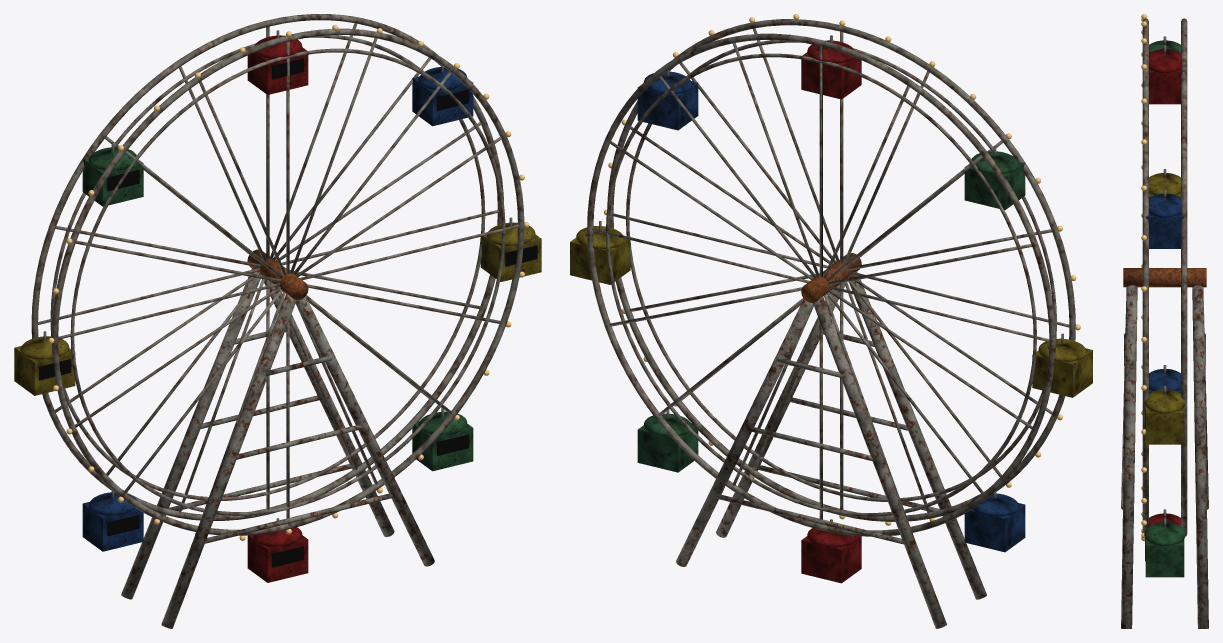
Rendered from ferris.glb.
The picture shows the model from 3 angles, left to right: view 1: azimuth 30°, elevation 25°; view 2: azimuth 150°, elevation 25°; view 3: azimuth 270°, elevation 25°; orthographic projection. The views are drawn at different scales.
Parts seen in each view (by area): view 1: Wheel, Main, Cabin5, Cabin4, Cabin6, Cabin0, Cabin3, Cabin1, Cabin2, Cabin7; view 2: Wheel, Main, Cabin5, Cabin4, Cabin6, Cabin3, Cabin0, Cabin1, Cabin2, Cabin7; view 3: Main, Wheel, Cabin3, Cabin2, Cabin1, Cabin0, Cabin5, Cabin6, Cabin4, Cabin7.
Part boxes in pixels (<box>): Wheel: <box>31,14,529,540</box>; Main: <box>121,249,434,628</box>; Cabin5: <box>82,490,143,551</box>; Cabin4: <box>247,518,308,582</box>; Cabin6: <box>14,331,75,395</box>; Cabin0: <box>247,30,308,94</box>; Cabin3: <box>412,407,473,471</box>; Cabin1: <box>412,65,473,126</box>; Cabin2: <box>480,217,541,281</box>; Cabin7: <box>82,142,143,206</box>; Wheel: <box>587,14,1080,536</box>; Main: <box>676,253,986,628</box>; Cabin5: <box>964,491,1025,552</box>; Cabin4: <box>801,519,861,583</box>; Cabin6: <box>1032,333,1092,397</box>; Cabin3: <box>637,410,698,472</box>; Cabin0: <box>801,35,861,99</box>; Cabin1: <box>637,70,698,130</box>; Cabin2: <box>570,221,630,284</box>; Cabin7: <box>964,146,1025,210</box>; Main: <box>1121,268,1208,628</box>; Wheel: <box>1141,14,1187,541</box>; Cabin3: <box>1144,518,1185,577</box>; Cabin2: <box>1144,385,1185,444</box>; Cabin1: <box>1145,189,1184,248</box>; Cabin0: <box>1149,45,1180,104</box>; Cabin5: <box>1149,365,1180,393</box>; Cabin6: <box>1149,169,1180,197</box>; Cabin4: <box>1149,509,1180,525</box>; Cabin7: <box>1149,36,1180,52</box>.
Size of the model in its own units: 17.5 by 18.31 by 2.75.
Materials: 10 (10 with a texture image).
